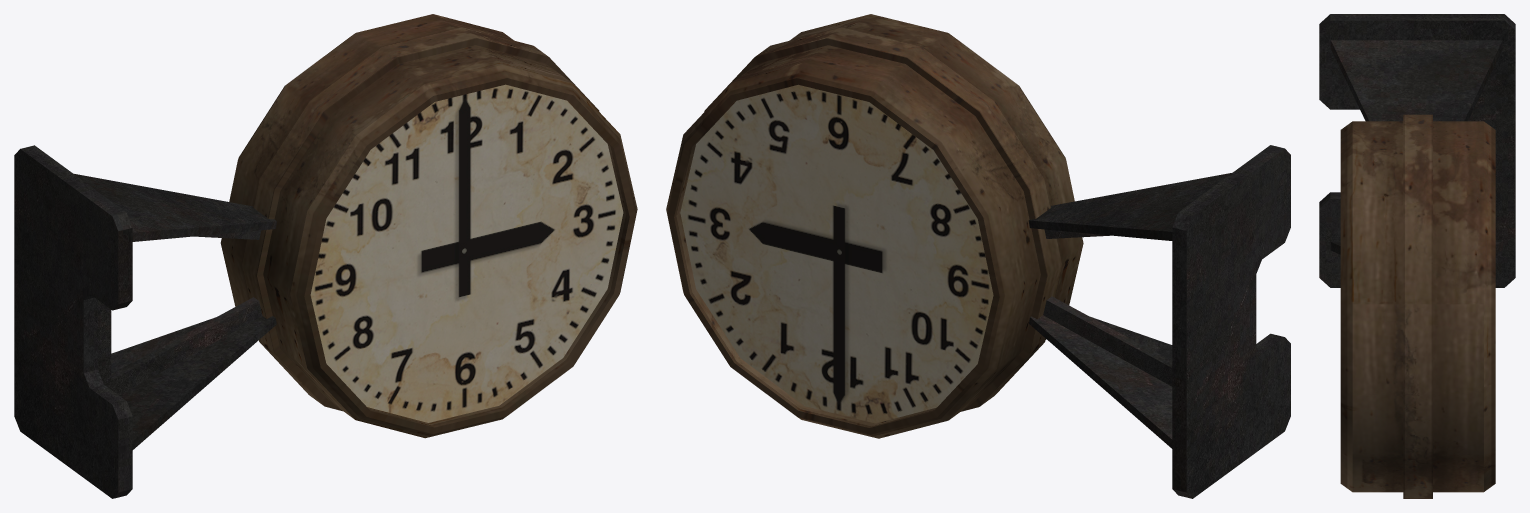
File: clock01.obj
The picture shows the model from 3 angles, left to right: view 1: azimuth 30°, elevation 25°; view 2: azimuth 150°, elevation 25°; view 3: azimuth 270°, elevation 25°; orthographic projection. The views are drawn at different scales.
Visible parts, largest first — view 1: ClockBody, ClockHandle; view 2: ClockBody, ClockHandle; view 3: ClockBody, ClockHandle.
Boxes of the visible parts, box(x1,y1,x2,y2) form: ClockBody: box(220, 14, 637, 438); ClockHandle: box(14, 145, 276, 498); ClockBody: box(666, 14, 1083, 438); ClockHandle: box(1028, 145, 1290, 498); ClockBody: box(1340, 114, 1495, 498); ClockHandle: box(1319, 14, 1515, 287).
Bounding box in the file's own units: 1.51 × 0.9749 × 0.5.
